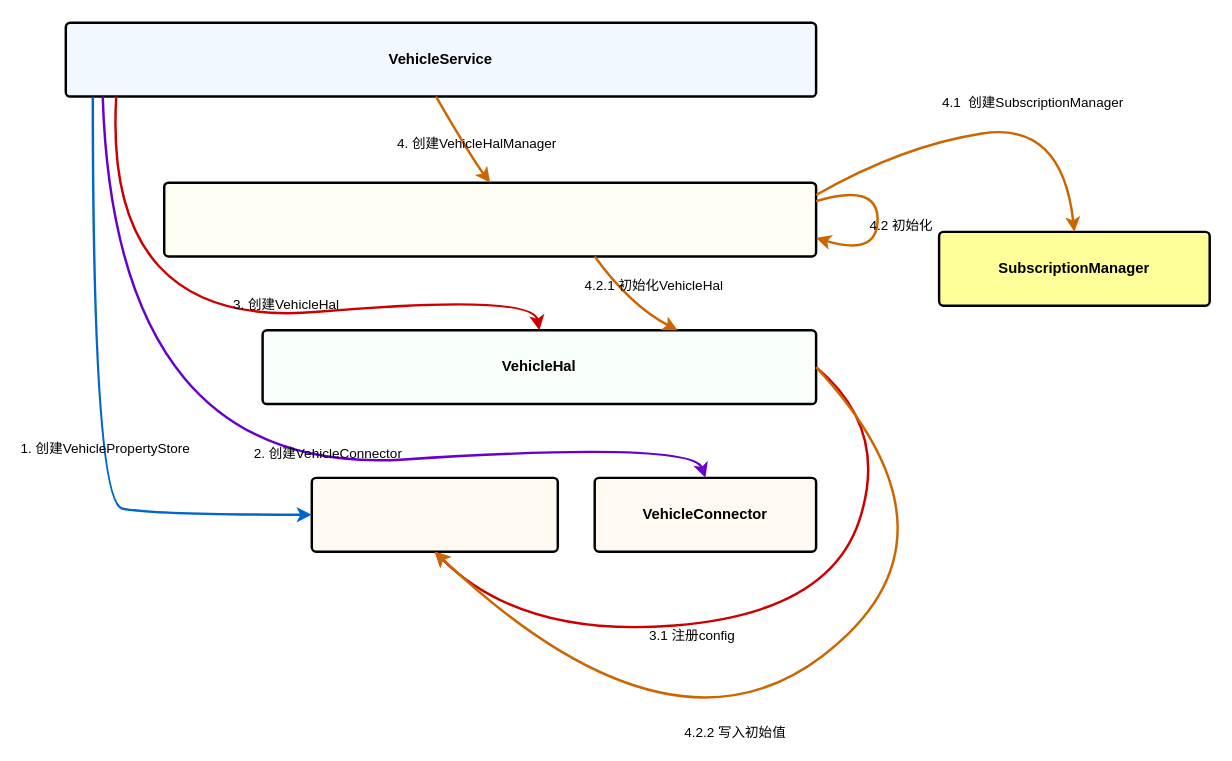
This 1232x761 diagram has some shape labels left out. The centre of each missing label's shape, as x and y in pixels:
"VehicleHalManager" goes at pixel 489 219.
"VehiclePropertyStore" goes at pixel 434 514.
